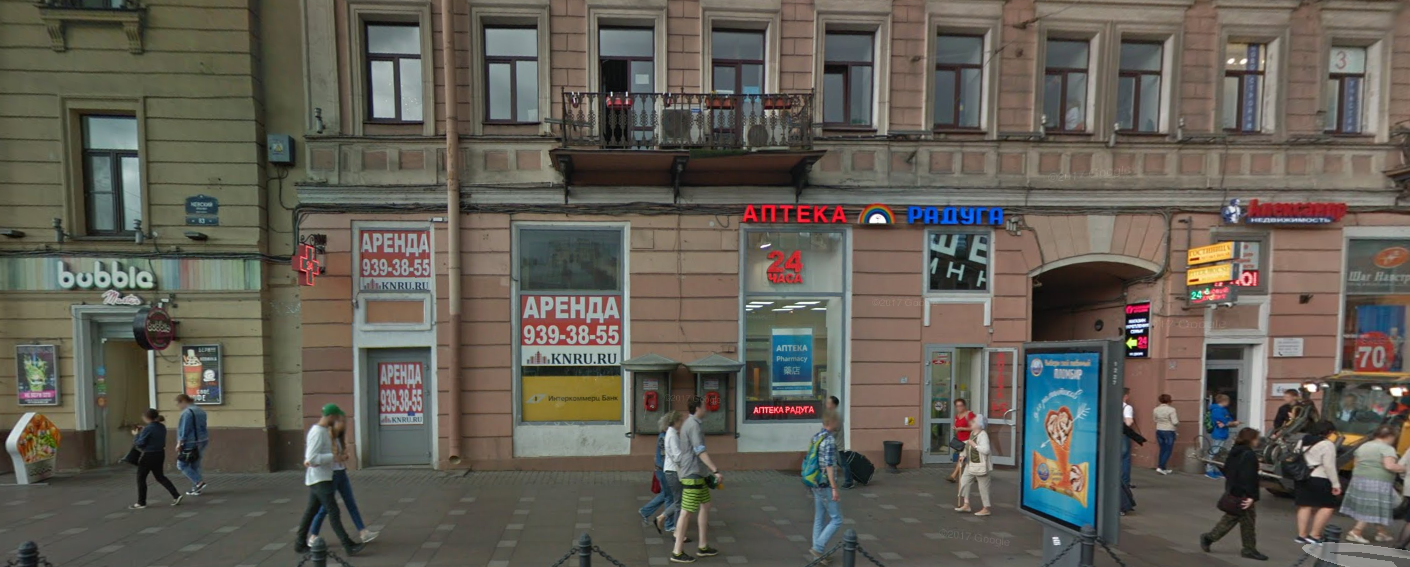cantilever: (1181, 242, 1240, 312), (125, 301, 184, 354), (286, 223, 330, 287)
door: (77, 309, 158, 466), (354, 348, 432, 466), (921, 344, 988, 467), (1205, 342, 1253, 458)
signboard: (1, 256, 262, 292), (739, 196, 1013, 228), (1213, 189, 1350, 231)
win_ad: (519, 292, 621, 419), (360, 228, 428, 290), (767, 324, 813, 398), (761, 244, 808, 289)
window: (518, 225, 621, 423), (743, 227, 844, 421), (1350, 234, 1410, 389), (1345, 238, 1410, 381), (71, 107, 140, 231), (358, 14, 427, 128), (599, 27, 658, 141), (350, 223, 429, 297), (823, 21, 875, 133), (936, 22, 988, 134), (479, 22, 537, 121), (715, 25, 759, 129), (1044, 34, 1089, 135), (1223, 35, 1264, 134), (1121, 37, 1162, 132), (1333, 46, 1366, 136)
